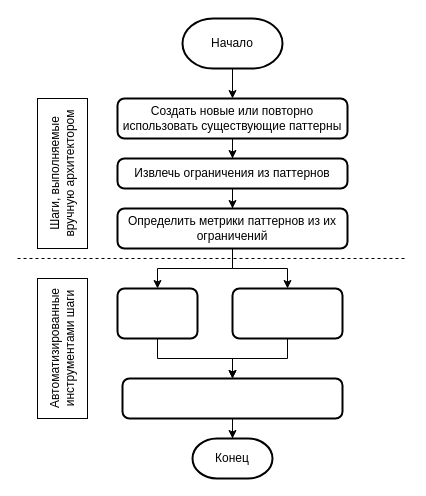
Some shapes in this 426 by 496 pixel diagram are drawn without their labels. Here are the shapes that lost their labels. From the top down, the box of each, then its label:
(116, 287, 198, 339): Синтез паттернов
(231, 287, 343, 339): Синтез ответственностей
(121, 377, 343, 419): Заполучить предполагаемые решения
